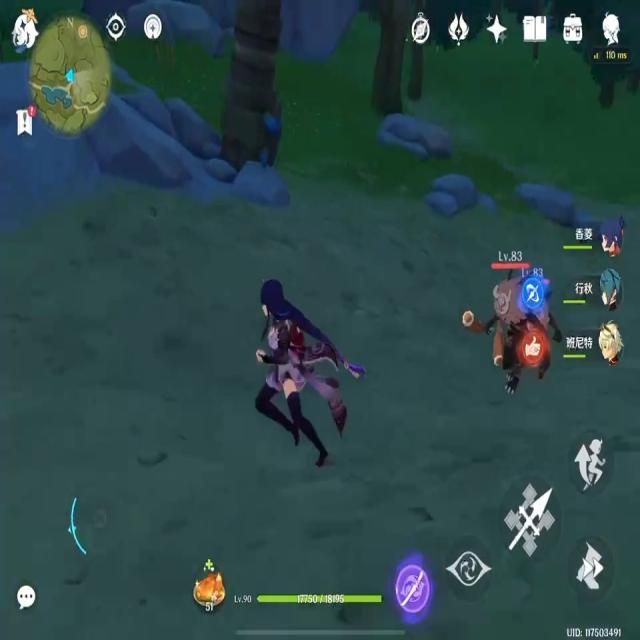genshin-hilichurls: (471, 259, 522, 392)
